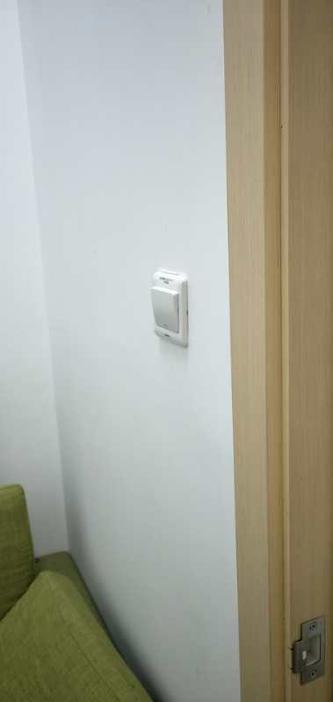switch: (149, 283, 187, 337)
